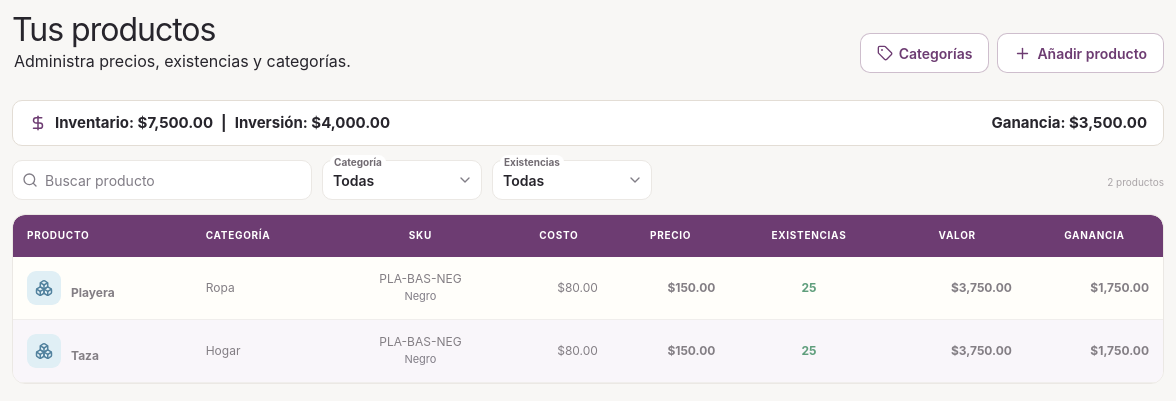
ProductsPage › Filtros › debería filtrar por categoría
Click the dropdown named "Filtrar por categoría": (402, 180) top-left (322, 160), bottom-right (482, 200)
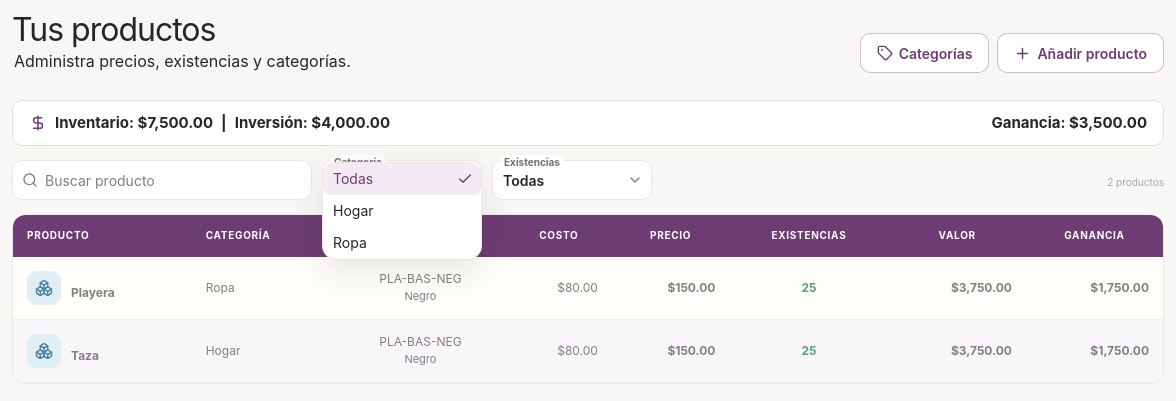
Click the option "Hogar": (353, 211) top-left (333, 202), bottom-right (374, 219)
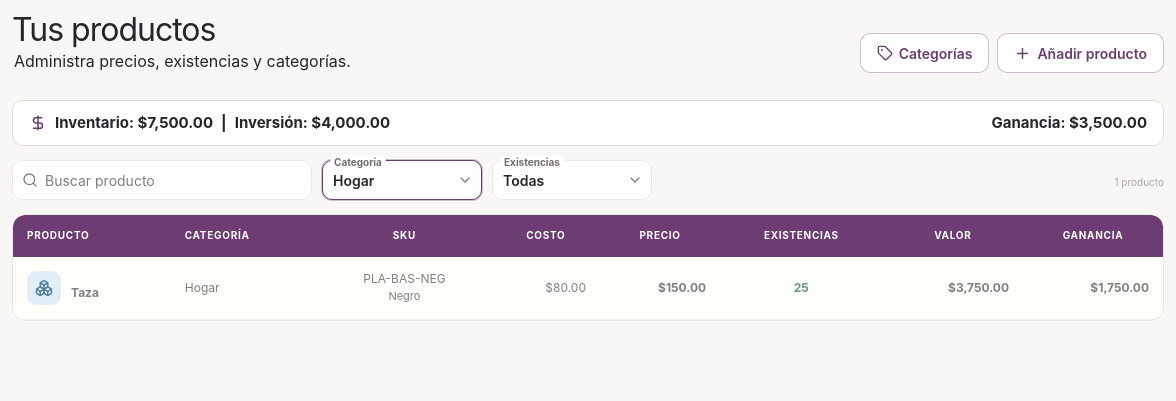
Check: the text "Playera" is gone
